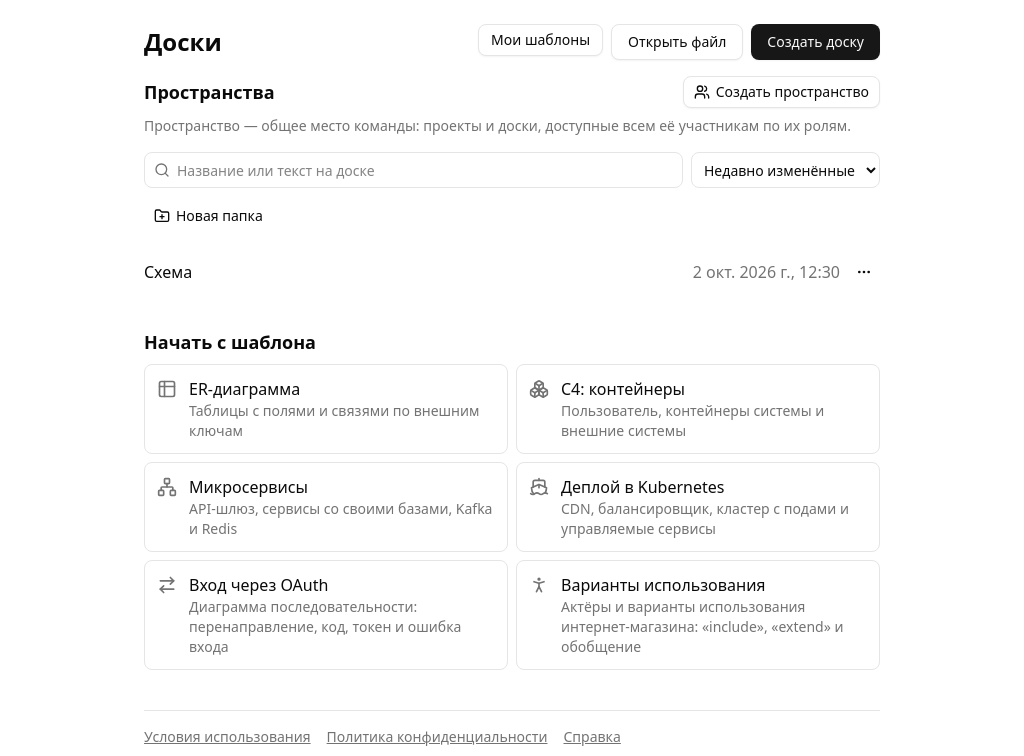
Test: Workspaces on the main page › tells that a user is in as many workspaces as allowed
Click the button "Создать пространство": (781, 92) [683,76,880,108]
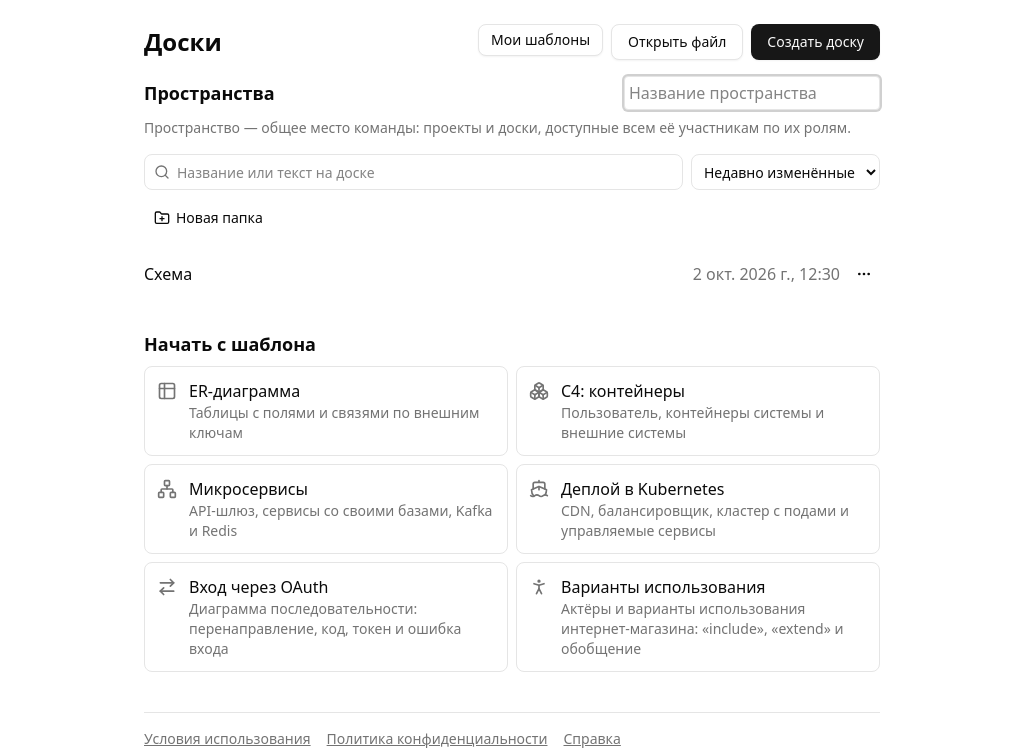
In the field labelled "Название пространства": (752, 93) [624,76,880,110], type "Ещё одно"
Then press Enter
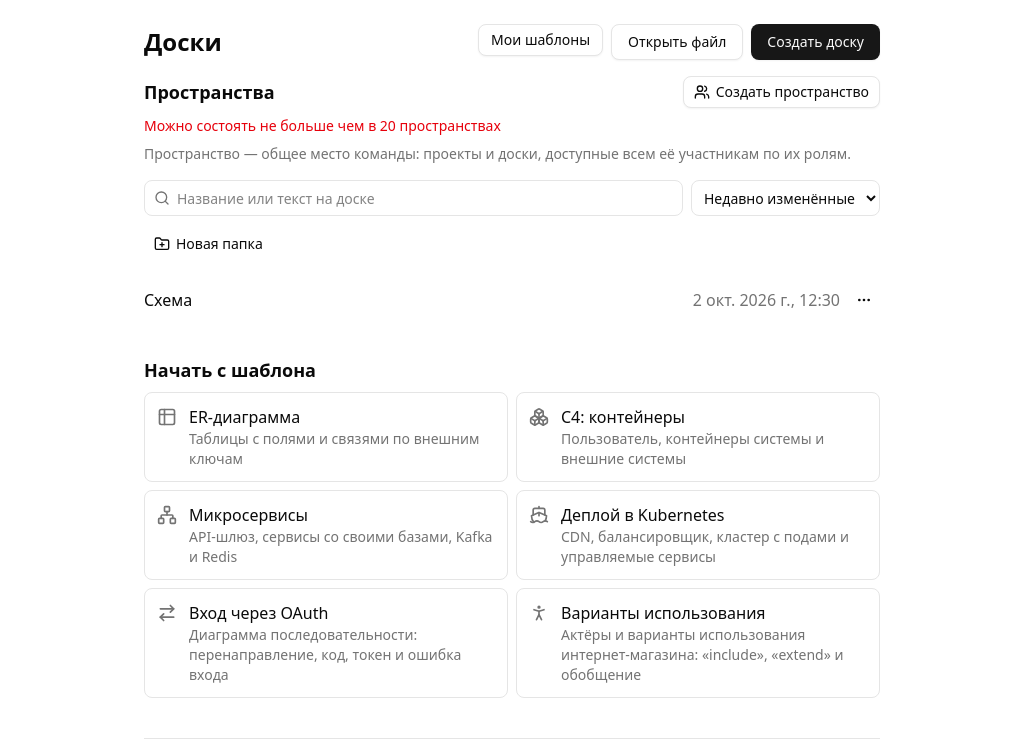
Expected: the message reads "Можно состоять не больше чем в 20 пространствах", [144,116,501,135]
